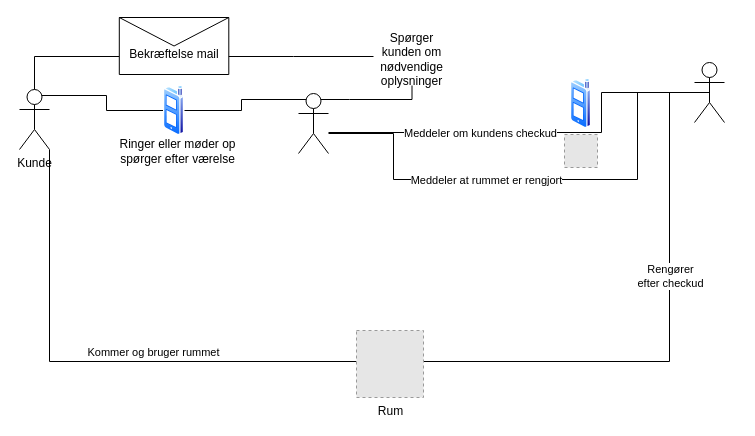
Image size: 755x436. Some labels were removed from this diagram. Grey dashed boxes stand in for pictures. Here are the shapes that lost their labels. From the top down, the centre of each, then its label:
(x=709, y=92): Rengøring
(x=313, y=123): Reservations desk
